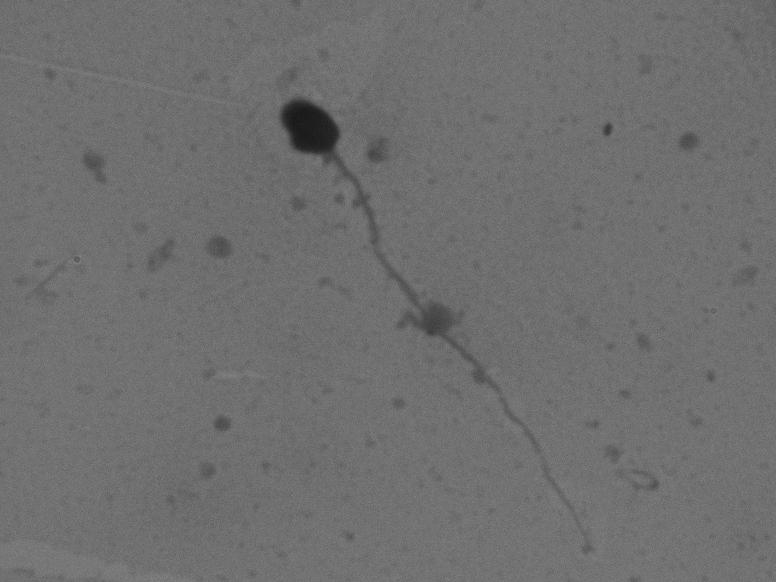Abnormal: (238, 79, 656, 560)
